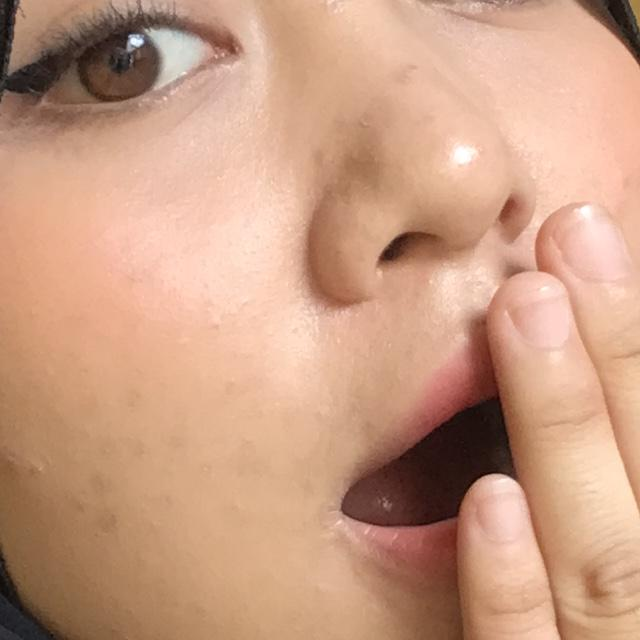ngantuk: (200, 166, 640, 640)
